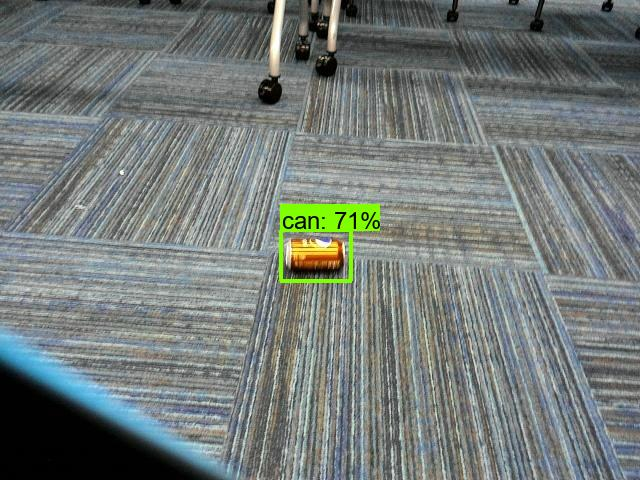can: (274, 228, 351, 279)
